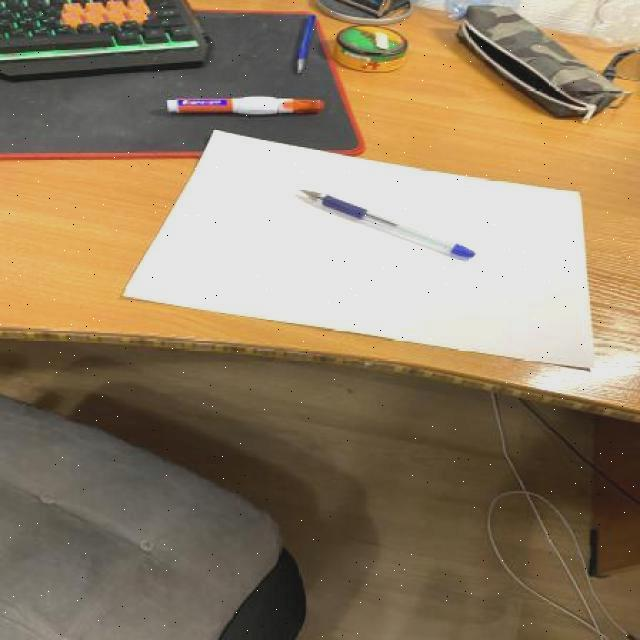pen: (296, 187, 478, 264)
